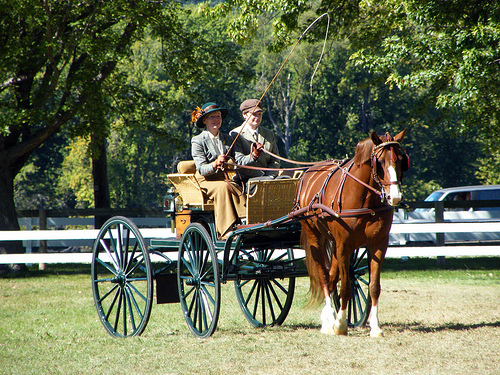horse: (289, 128, 409, 338)
